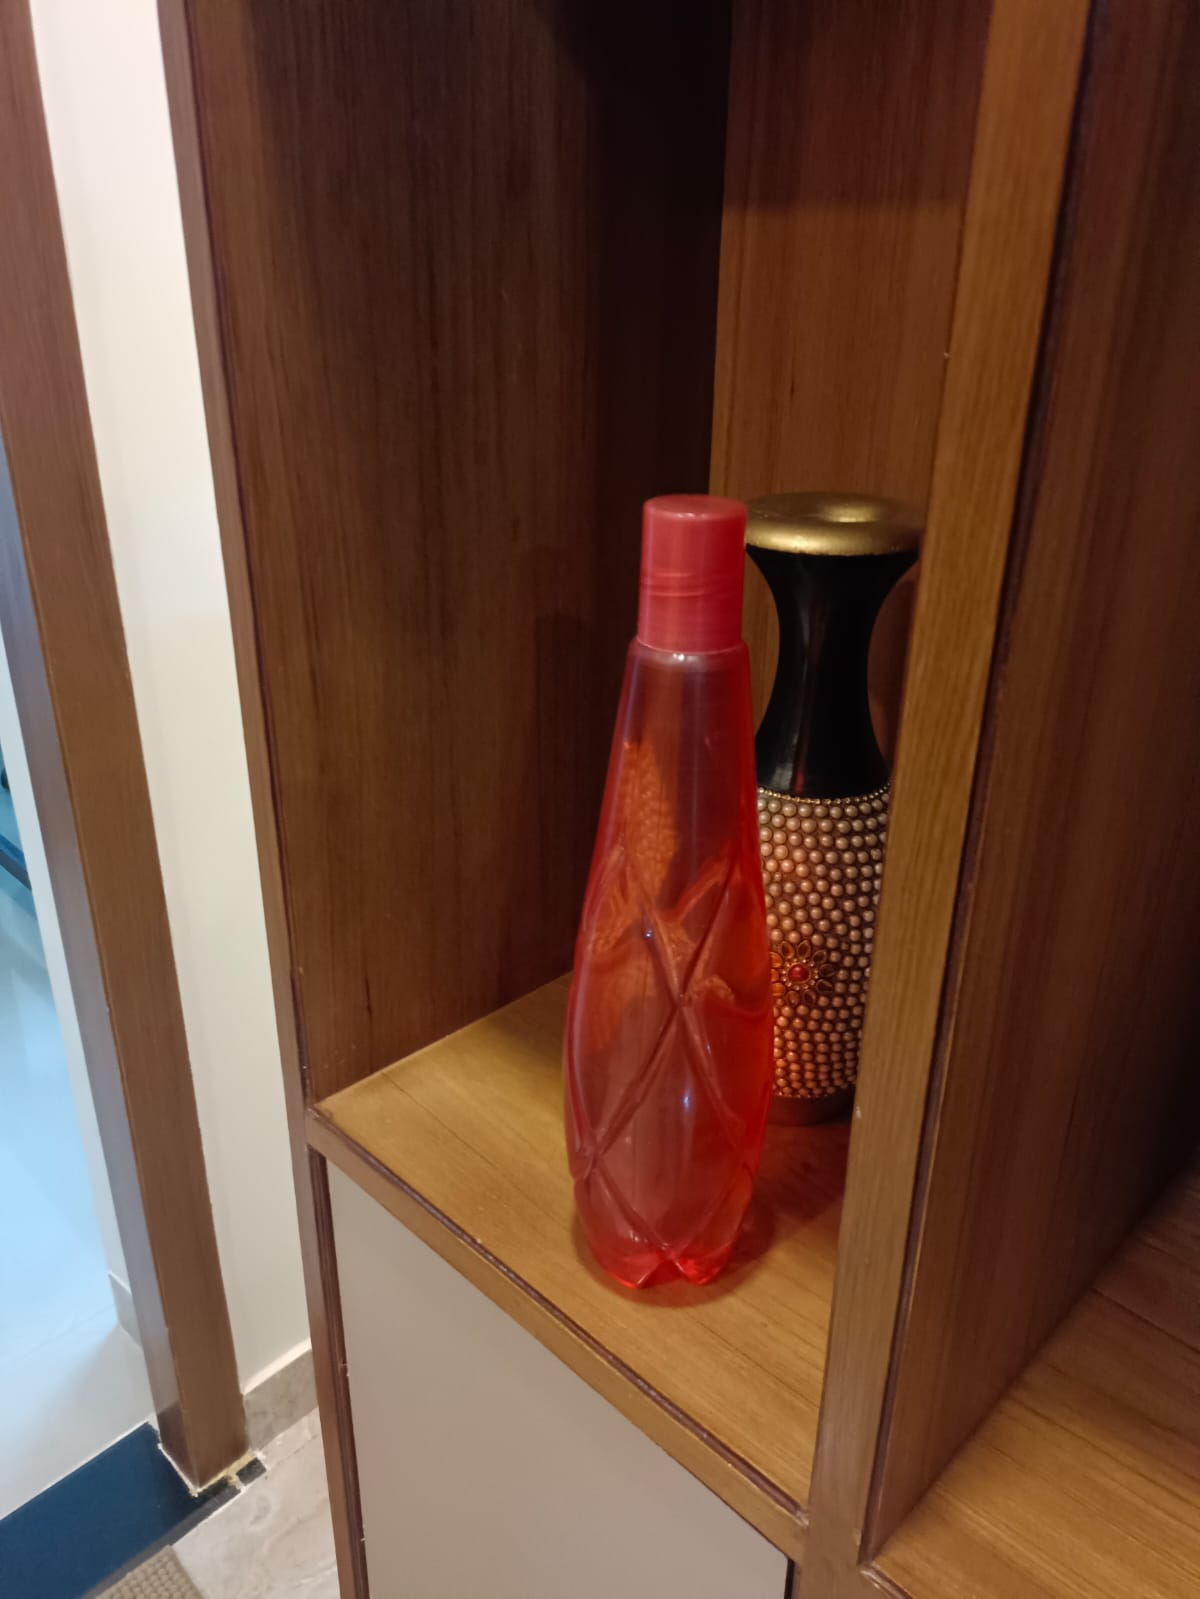bottle: (547, 488, 781, 1321)
